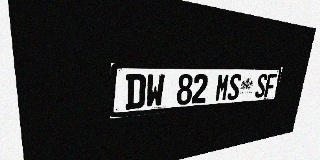2: (191, 74, 209, 104)
8: (176, 74, 194, 105)
D: (125, 74, 146, 110)
F: (264, 74, 277, 97)
M: (214, 74, 230, 102)
S: (227, 74, 242, 101), (254, 74, 268, 98)
W: (145, 74, 165, 108)
